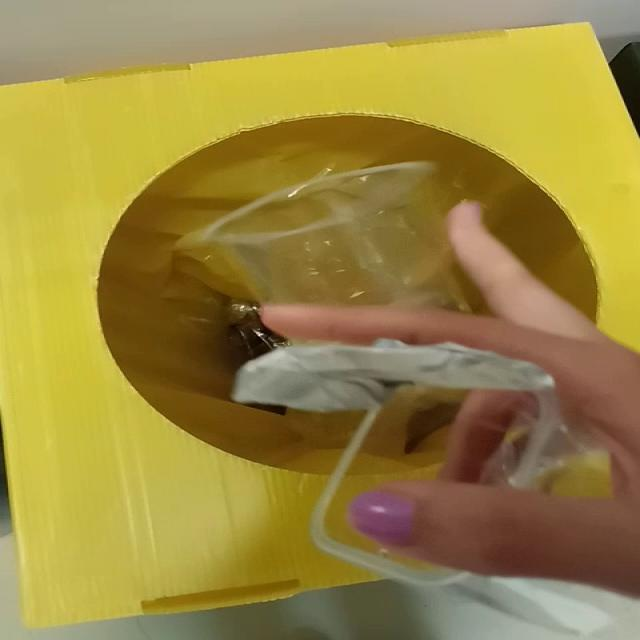plastic: (175, 162, 467, 309)
